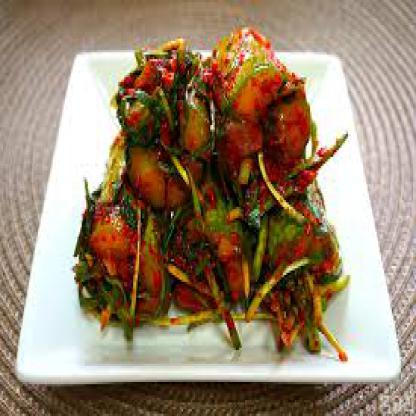cucumber kimchi: (92, 50, 327, 318)
